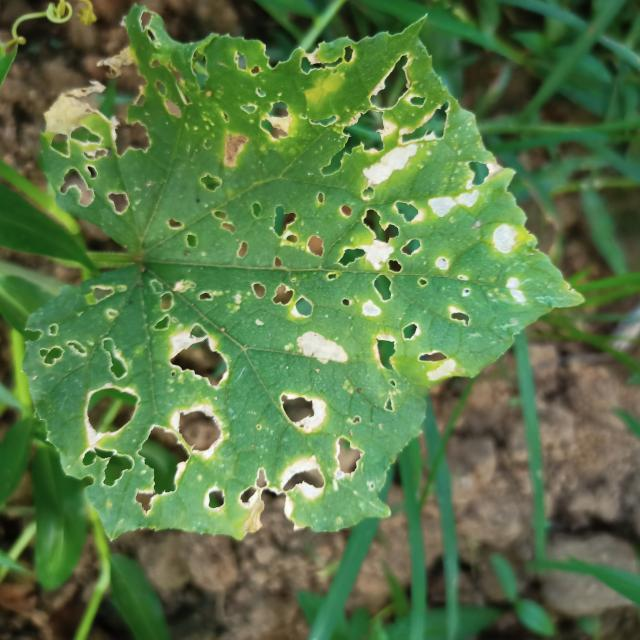disease_cucumber: (43, 41, 500, 532)
